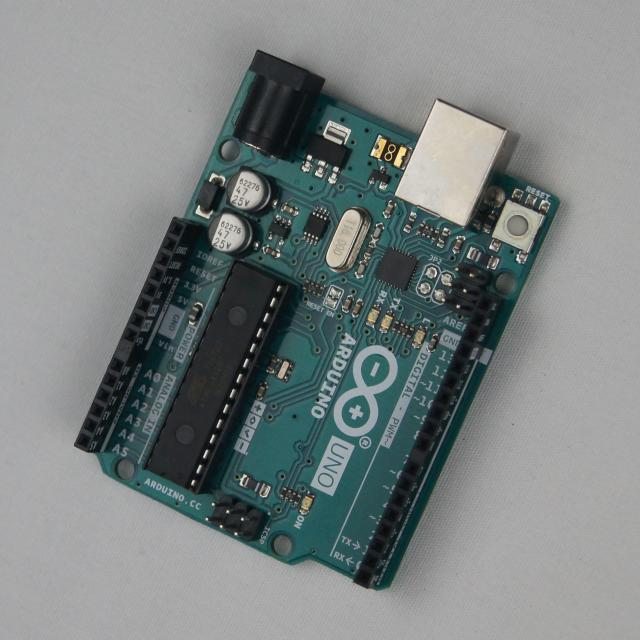Arduino Uno -Green-: (76, 52, 558, 588)
